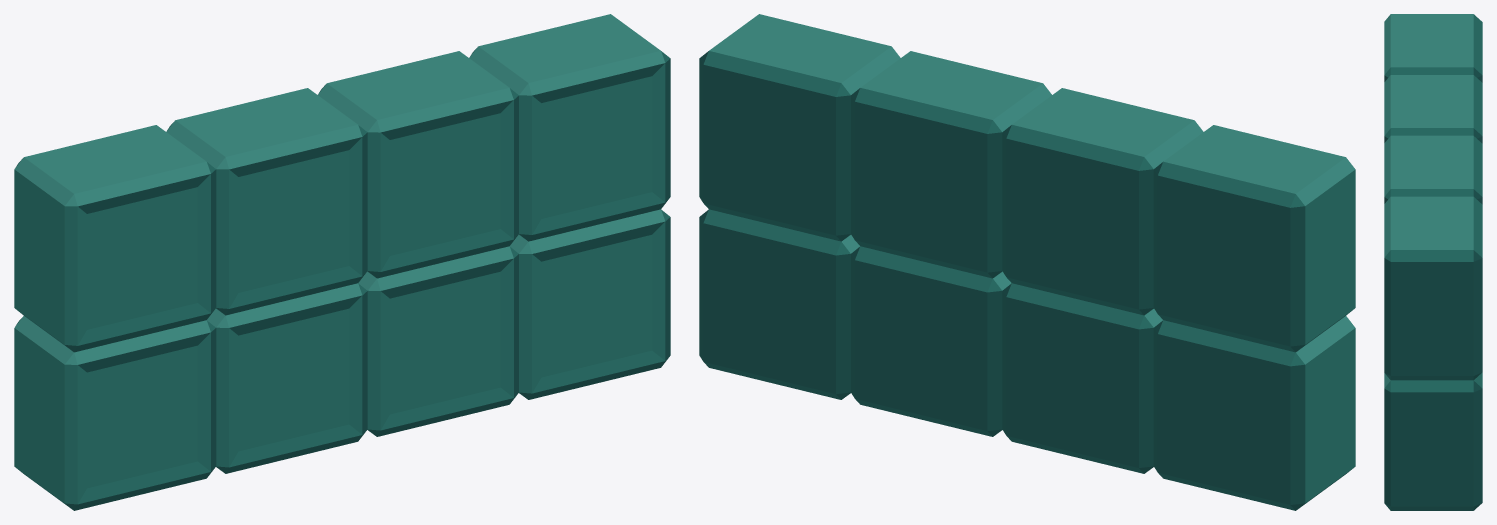
File: Terrain_Block4x2.gltf
The picture shows the model from 3 angles, left to right: view 1: azimuth 30°, elevation 25°; view 2: azimuth 150°, elevation 25°; view 3: azimuth 270°, elevation 25°; orthographic projection. The views are drawn at different scales.
Parts seen in each view (by area): view 1: Terrain_Block4x2_baked; view 2: Terrain_Block4x2_baked; view 3: Terrain_Block4x2_baked.
Boxes of the visible parts, x1,y1,x2,y2 form: Terrain_Block4x2_baked: [14, 14, 670, 510]; Terrain_Block4x2_baked: [699, 14, 1355, 510]; Terrain_Block4x2_baked: [1384, 14, 1482, 510].
Size of the model in its own units: 4 by 2 by 0.6822.
